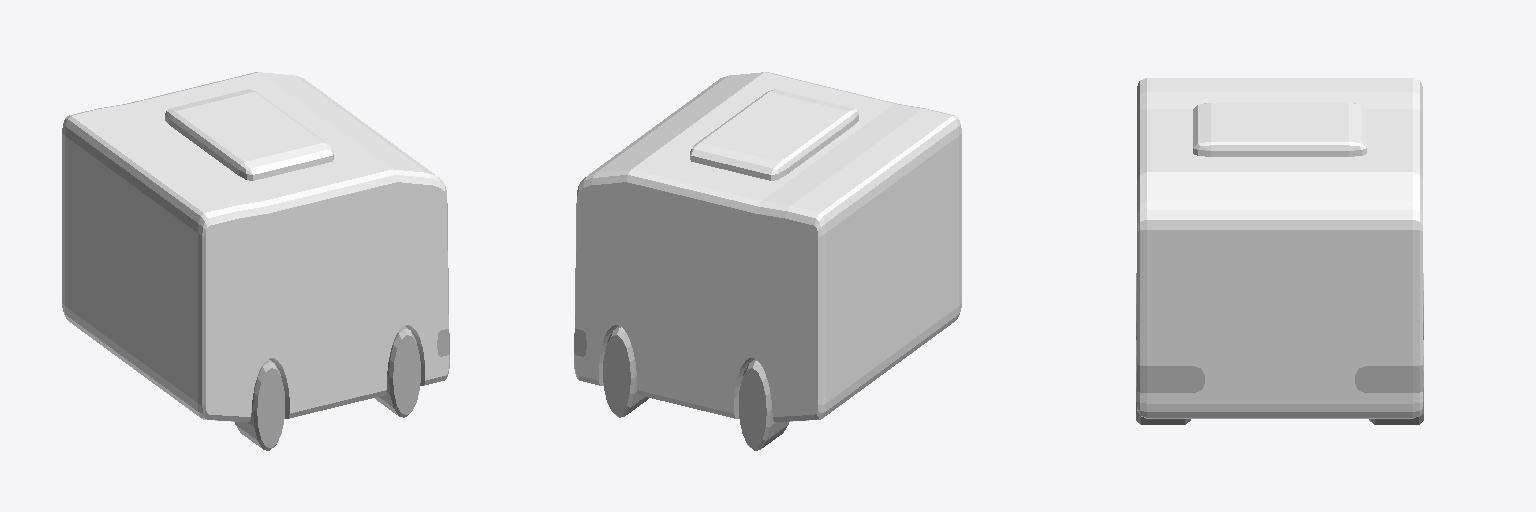
3 renders of one model, left to right at view 1: azimuth 30°, elevation 25°; view 2: azimuth 150°, elevation 25°; view 3: azimuth 270°, elevation 25°, orthographic.
Visible parts, largest first — view 1: bus.001_立方体.001; view 2: bus.001_立方体.001; view 3: bus.001_立方体.001.
Boxes of the visible parts, <box> form: bus.001_立方体.001: <box>62,72,449,450</box>; bus.001_立方体.001: <box>574,72,961,450</box>; bus.001_立方体.001: <box>1136,78,1423,424</box>.
Size of the model in its own units: 1 by 1 by 1.